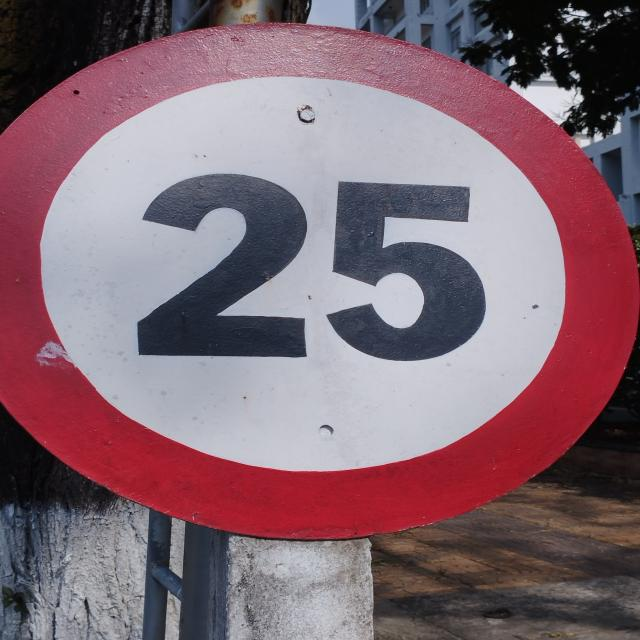Tre_Em: (0, 23, 640, 545)
